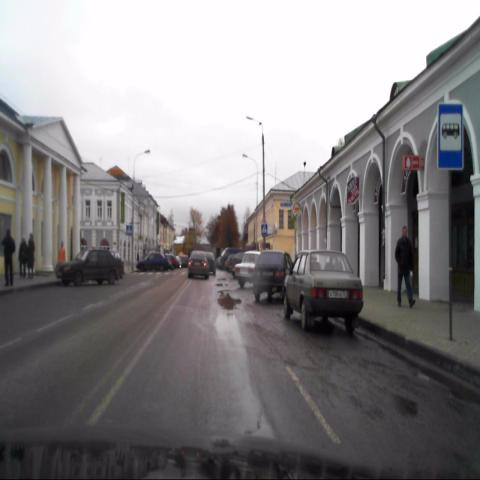5_16: (438, 100, 464, 170)
